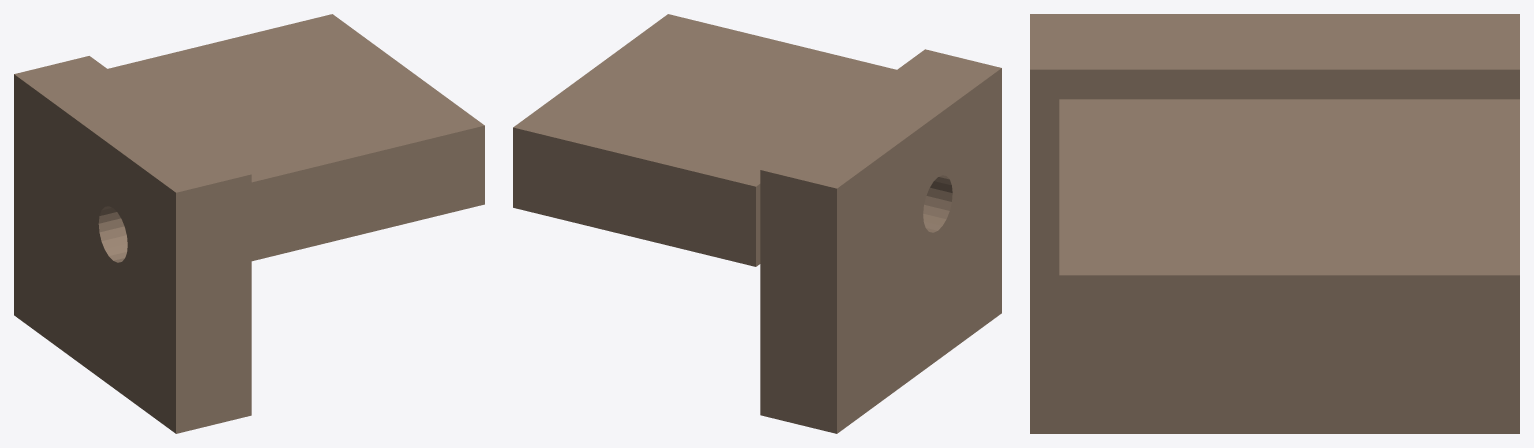
Rendered from shelf-pin-detail.glb.
3 views of the same model, side by side, from view 1: azimuth 30°, elevation 25°; view 2: azimuth 150°, elevation 25°; view 3: azimuth 270°, elevation 25° (orthographic). The views are drawn at different scales.
Parts seen in each view (by area): view 1: Left-pegboard-18, Shelf-Left-1; view 2: Left-pegboard-18, Shelf-Left-1; view 3: Shelf-Left-1, Left-pegboard-18.
Part boxes in pixels (left/top/right/bottom): Left-pegboard-18: left=14, top=56, right=251, bottom=433; Shelf-Left-1: left=108, top=14, right=484, bottom=261; Left-pegboard-18: left=760, top=49, right=1001, bottom=433; Shelf-Left-1: left=513, top=14, right=896, bottom=266; Shelf-Left-1: left=1059, top=99, right=1519, bottom=394; Left-pegboard-18: left=1030, top=14, right=1519, bottom=433.
Bounding box in the file's own units: 0.076 × 0.055 × 0.067.
